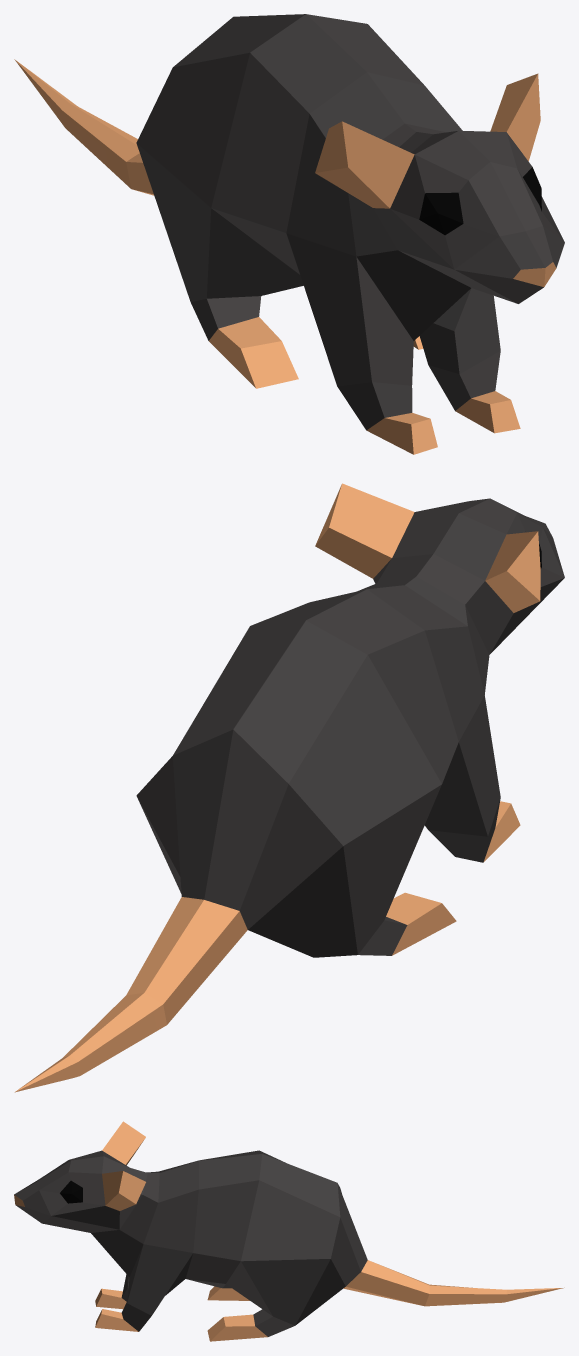
File: rat.glb
3 views of the same model, one above another, from view 1: azimuth 30°, elevation 25°; view 2: azimuth 150°, elevation 25°; view 3: azimuth 270°, elevation 25° (orthographic). The views are drawn at different scales.
Parts seen in each view (by area): view 1: rat; view 2: rat; view 3: rat.
Boxes of the visible parts, x1,y1,x2,y2 form: rat: (14, 14, 564, 454); rat: (14, 483, 564, 1092); rat: (14, 1121, 564, 1341).
Bounding box in the file's own units: 0.1535 × 0.2108 × 0.6121.
Materials: 1 (1 with a texture image).
